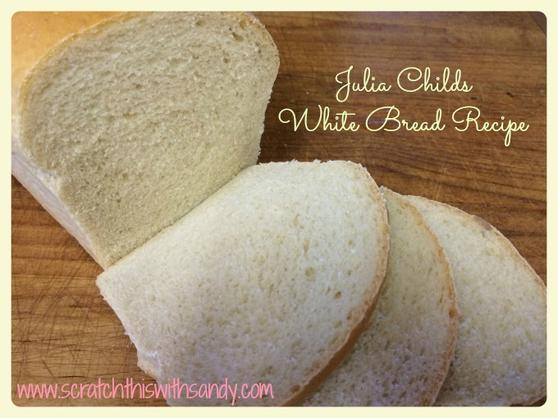white_bread: (9, 11, 284, 262)
